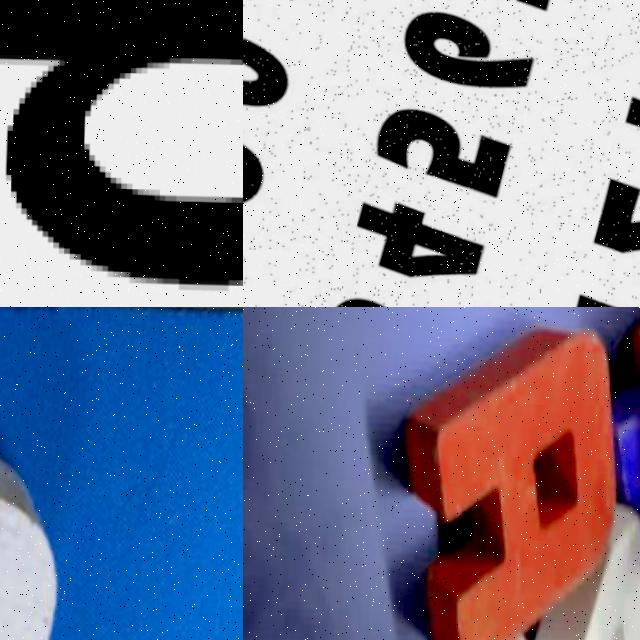0: (243, 3, 312, 128)
3: (304, 272, 492, 307)
4: (320, 178, 509, 307)
5: (350, 86, 534, 214)
6: (381, 0, 562, 120)
9: (243, 98, 277, 219)
A: (390, 317, 627, 640)
Q: (0, 0, 243, 299)
Z: (452, 476, 640, 640)
